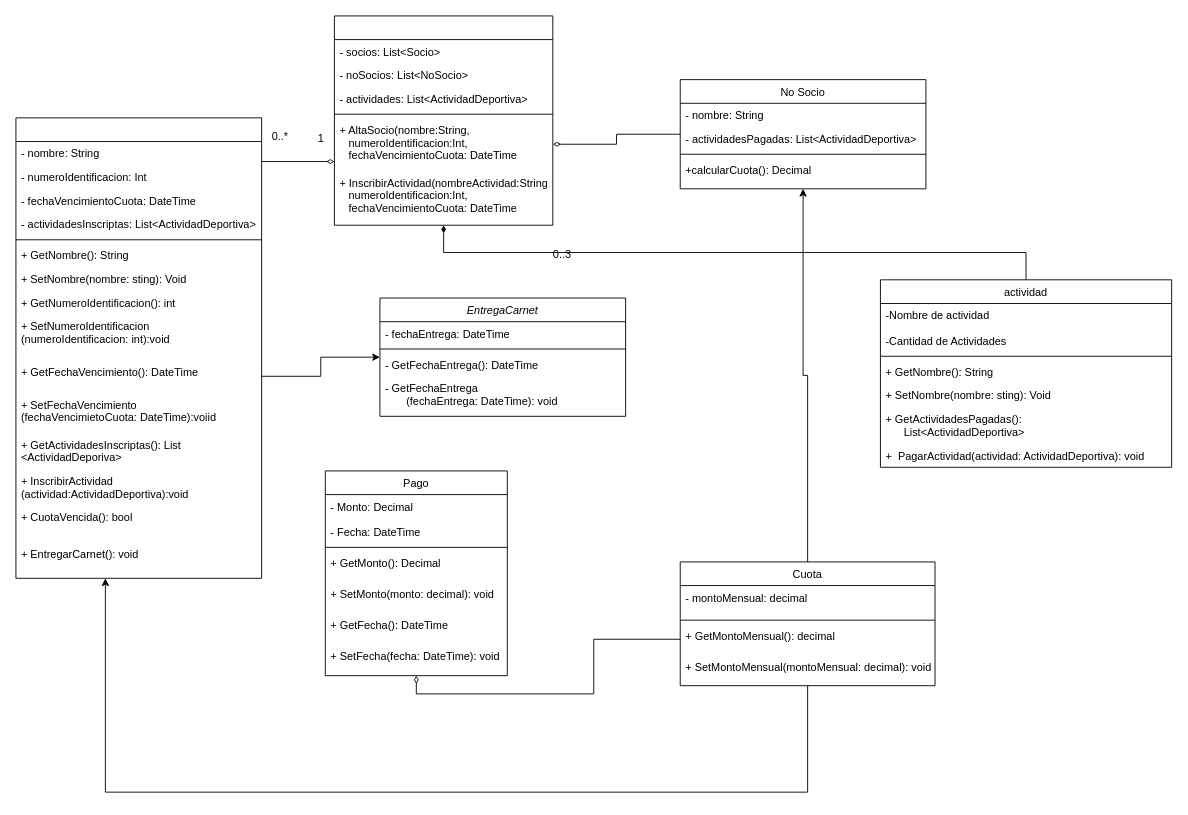
The diagram is 1188 pixels wide and 815 high, and some of its shapes have lost their labels. Here are the shapes that lost their labels. From the top down, the box of each, then its label:
(334, 15, 553, 225): club deportivo
(15, 117, 262, 578): Socio
